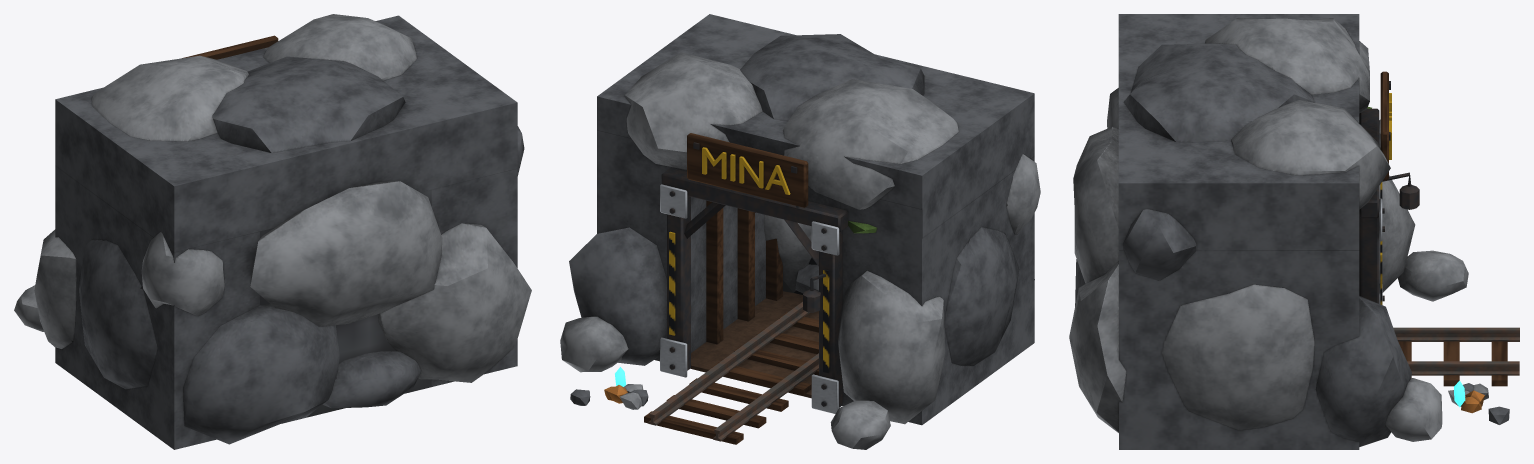
Rendered from entrada_mina.fbx.
The picture shows the model from 3 angles, left to right: view 1: azimuth 30°, elevation 25°; view 2: azimuth 150°, elevation 25°; view 3: azimuth 270°, elevation 25°; orthographic projection. The views are drawn at different scales.
Parts seen in each view (by area): view 1: entrada_mina; view 2: entrada_mina; view 3: entrada_mina.
Boxes of the visible parts, box(x1,y1,x2,y2) form: entrada_mina: box(14, 14, 531, 449); entrada_mina: box(560, 14, 1040, 449); entrada_mina: box(1069, 14, 1519, 449).
Size of the model in its own units: 6.73 by 5.02 by 6.74.
2 materials, 2 textured.
